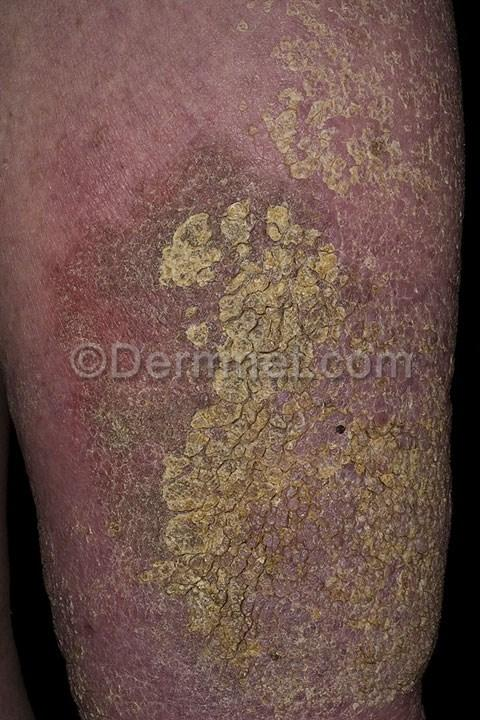Eczema: (234, 0, 394, 166), (14, 223, 173, 384), (83, 411, 248, 566), (244, 418, 391, 558), (136, 133, 258, 293), (257, 167, 402, 300), (133, 565, 266, 706), (180, 294, 325, 417), (34, 555, 146, 706), (396, 236, 475, 393), (272, 556, 382, 663), (297, 306, 404, 413), (392, 0, 470, 126), (388, 517, 459, 640), (392, 390, 453, 529), (396, 130, 465, 232), (46, 371, 187, 420), (374, 624, 444, 720), (268, 660, 372, 718)
